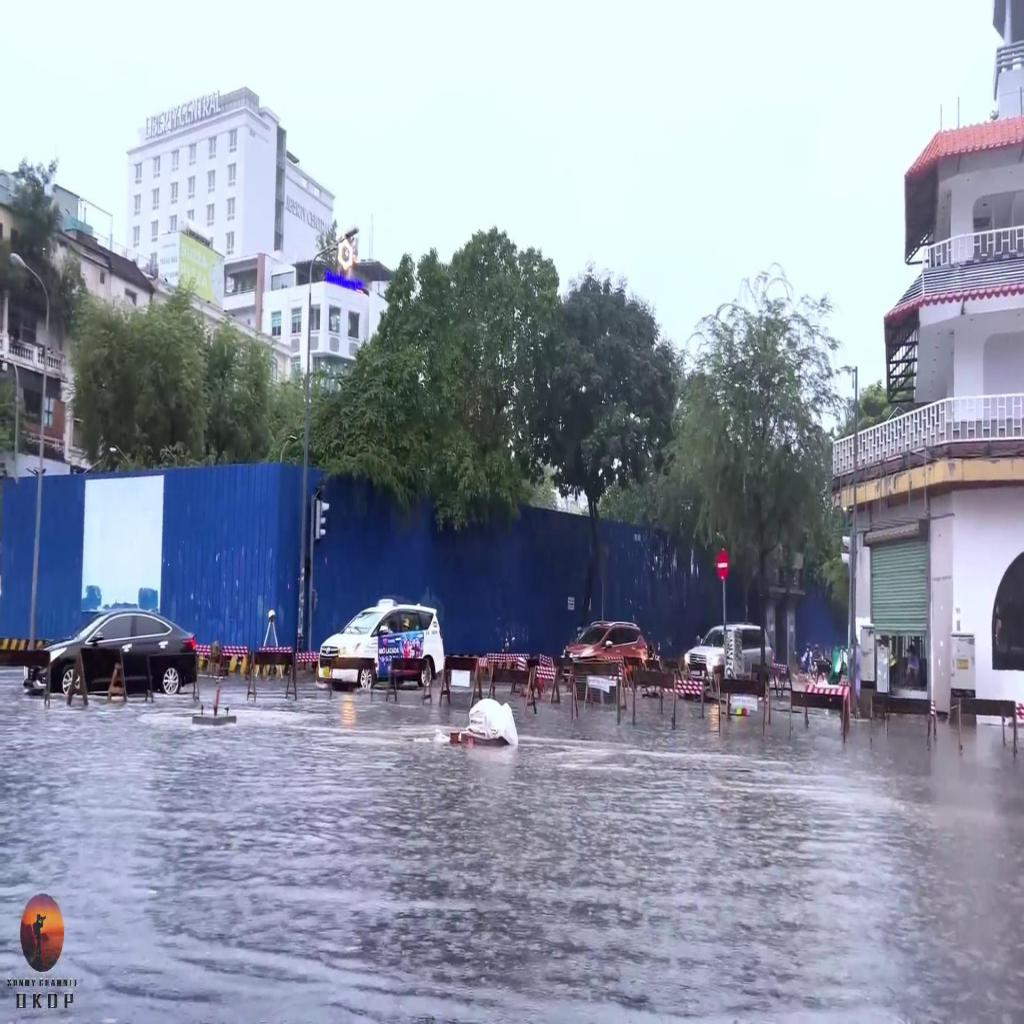cam_xe_di_nguoc_chieu: (717, 553, 728, 578)
